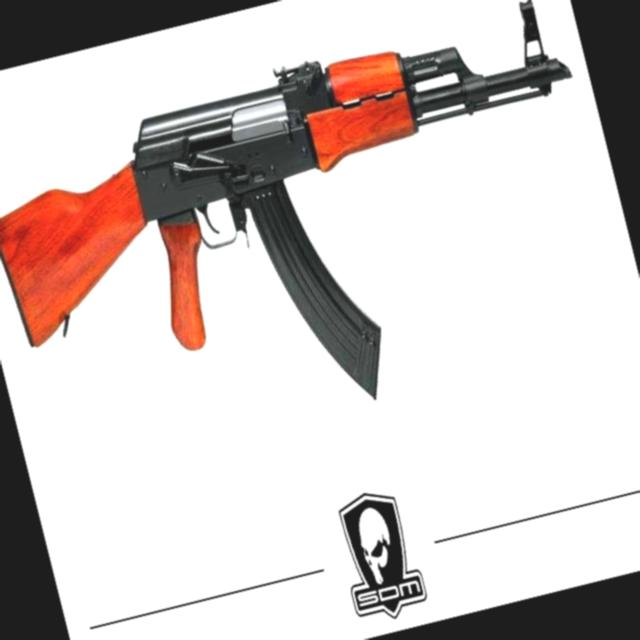ak: (0, 0, 639, 488)
